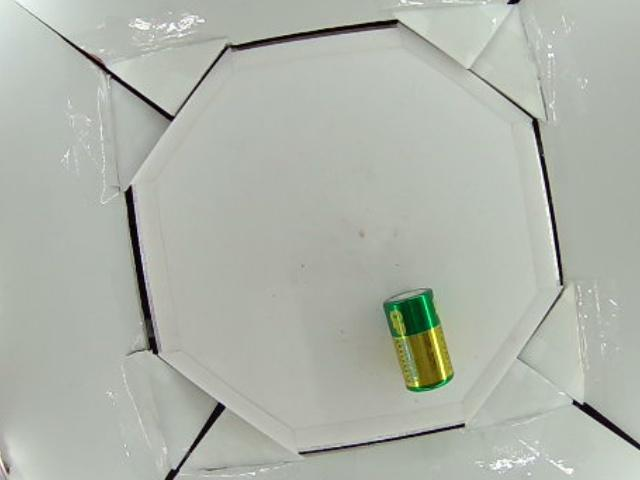Battery: (383, 287, 456, 392)
